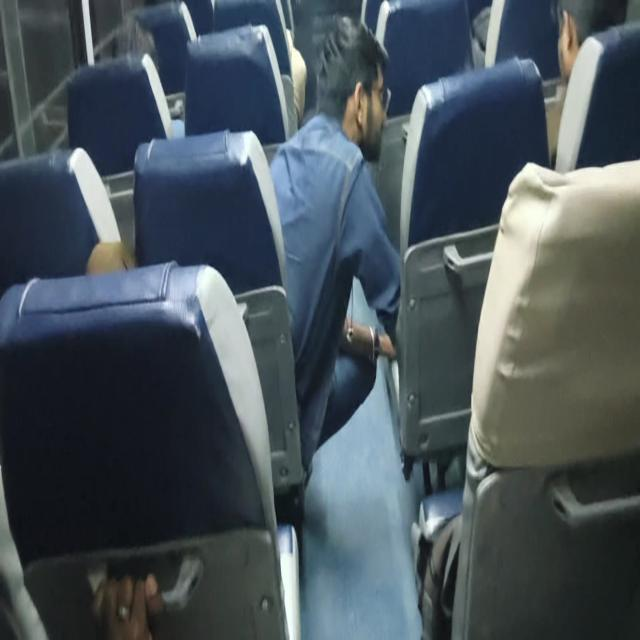person: (268, 14, 402, 482), (543, 0, 628, 166)
